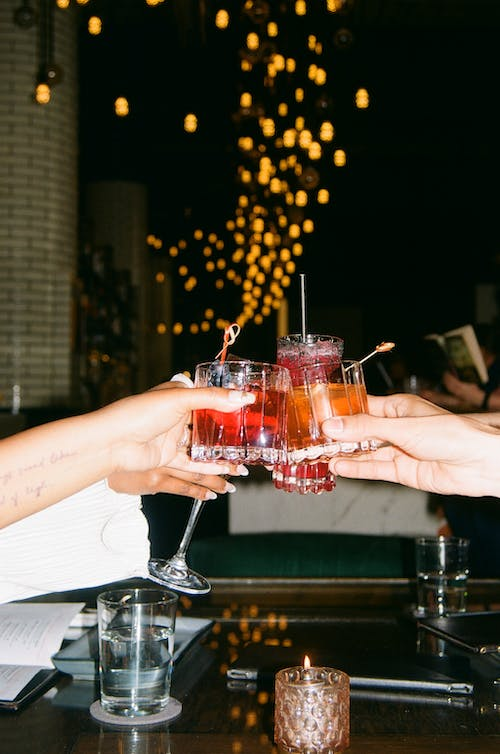alcohol: (270, 331, 344, 497), (190, 358, 292, 468), (281, 359, 379, 467)
